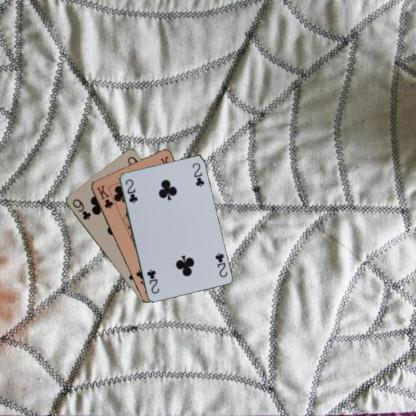2c: (122, 176, 138, 205), (212, 250, 228, 279)
9c: (70, 196, 92, 221)
Kc: (94, 182, 115, 210)
